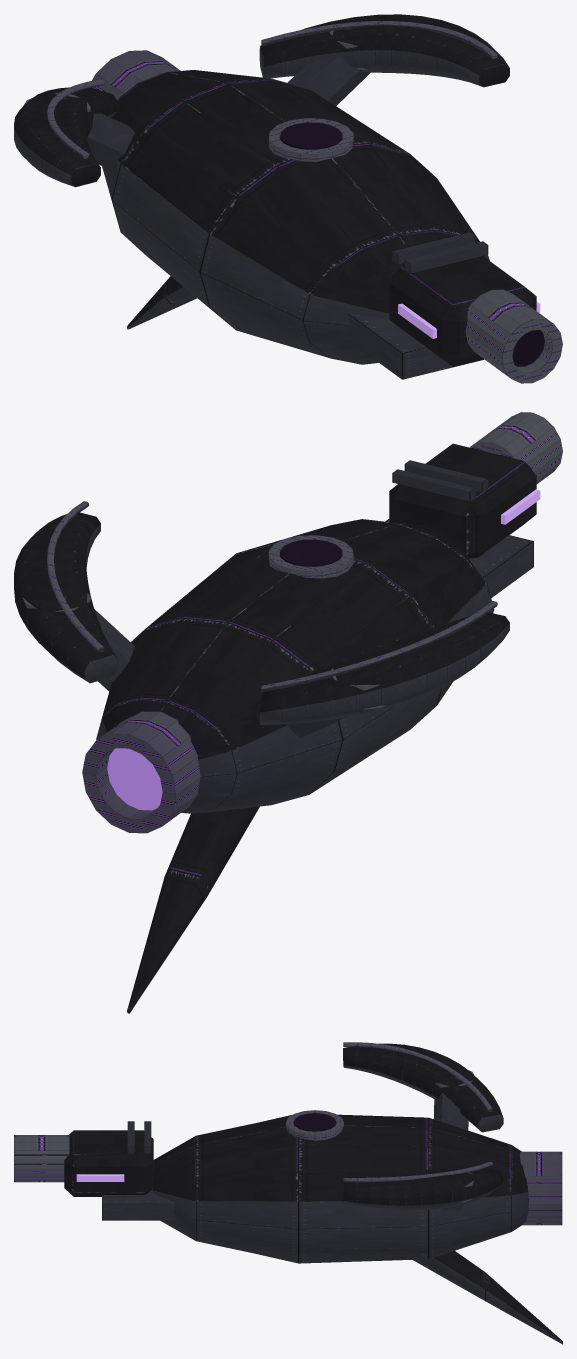
Rendered from pioneer-eris-l02-laser.glb.
The picture shows the model from 3 angles, top to bottom: view 1: azimuth 30°, elevation 25°; view 2: azimuth 150°, elevation 25°; view 3: azimuth 270°, elevation 25°; orthographic projection. The views are drawn at different scales.
Parts seen in each view (by area): view 1: Drone; view 2: Drone; view 3: Drone.
Boxes of the visible parts, box(x1,y1,x2,y2) form: Drone: box(14, 14, 562, 383); Drone: box(14, 412, 562, 1013); Drone: box(14, 1042, 562, 1344).
Bounding box in the file's own units: 0.9147 × 0.6652 × 1.42.
3 materials, 3 textured.
